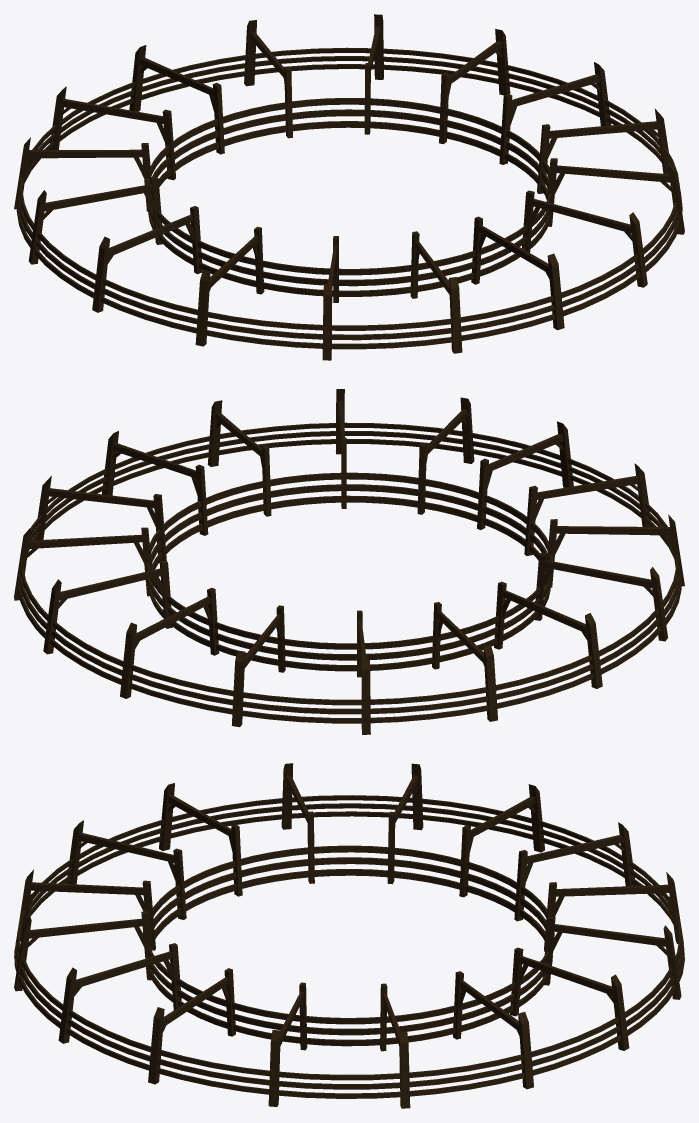
The model's file is Segmento Soportes Fin.fbx.
The picture shows the model from 3 angles, top to bottom: view 1: azimuth 30°, elevation 25°; view 2: azimuth 150°, elevation 25°; view 3: azimuth 270°, elevation 25°; orthographic projection.
Visible parts, largest first — view 1: Cave Wall Supports; view 2: Cave Wall Supports; view 3: Cave Wall Supports.
Boxes of the visible parts, x1=… form: Cave Wall Supports: x1=14, y1=14, x2=684, y2=360; Cave Wall Supports: x1=14, y1=389, x2=684, y2=734; Cave Wall Supports: x1=14, y1=763, x2=684, y2=1108.
Bounding box in the file's own units: 5604 × 643 × 5605.
